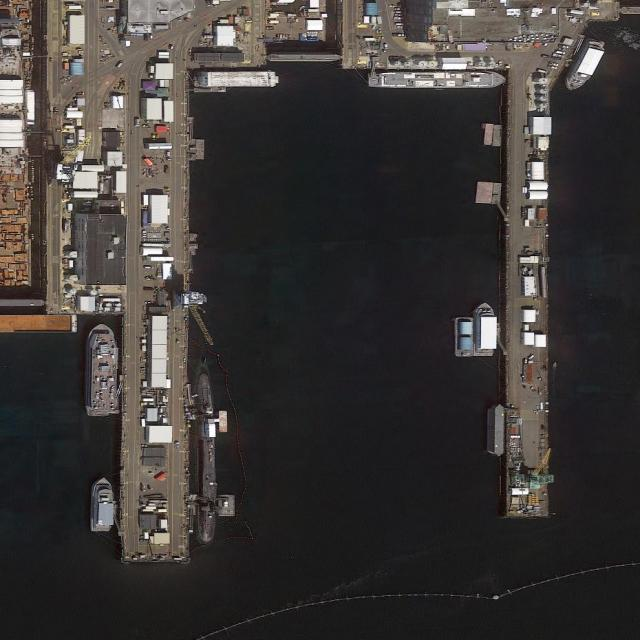Dock: (507, 66, 551, 518), (122, 313, 189, 560)
Other Ship: (85, 321, 118, 420), (473, 299, 500, 358), (91, 478, 116, 533)
Other Warship: (367, 72, 506, 90)
Submarine: (196, 374, 215, 544)
